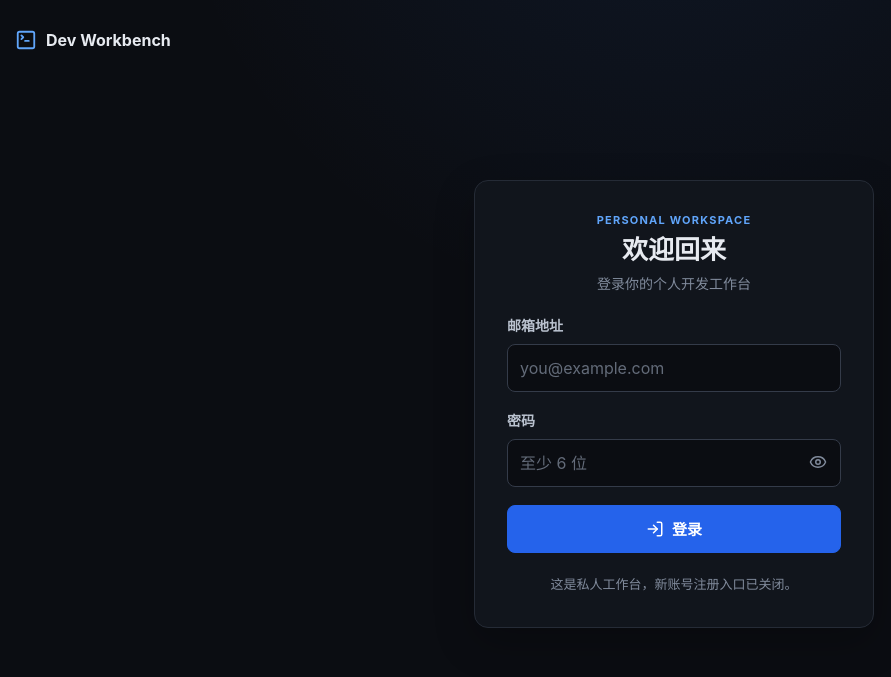
Test case: Auth page › shows a safe localized error without exposing the backend message
In the field labelled "邮箱地址": (674, 368) [507,344,841,392], type "owner@example.com"
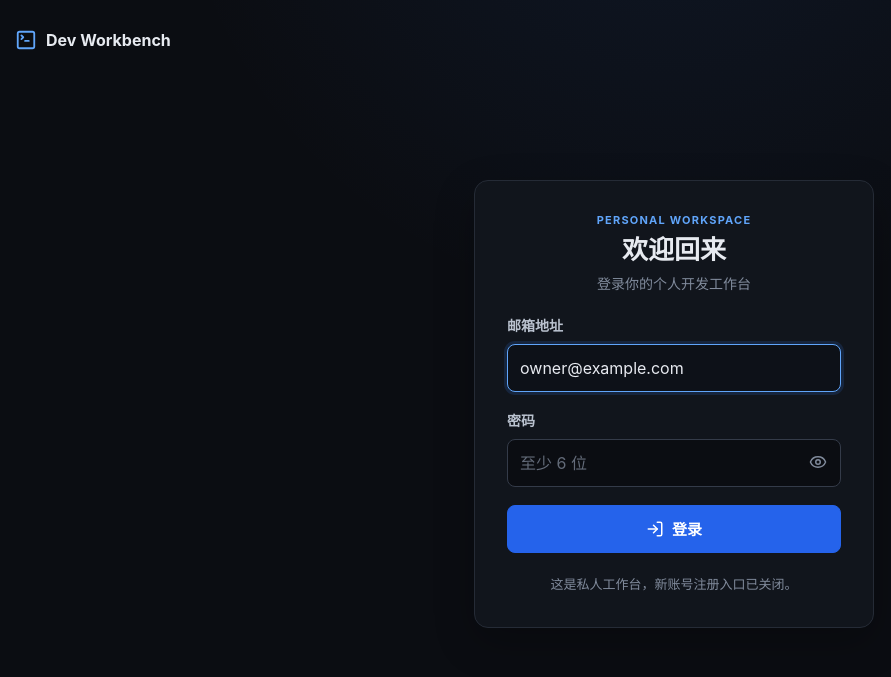
In the password field labelled "密码": (674, 463) [507,439,841,487], type "wrong-password"
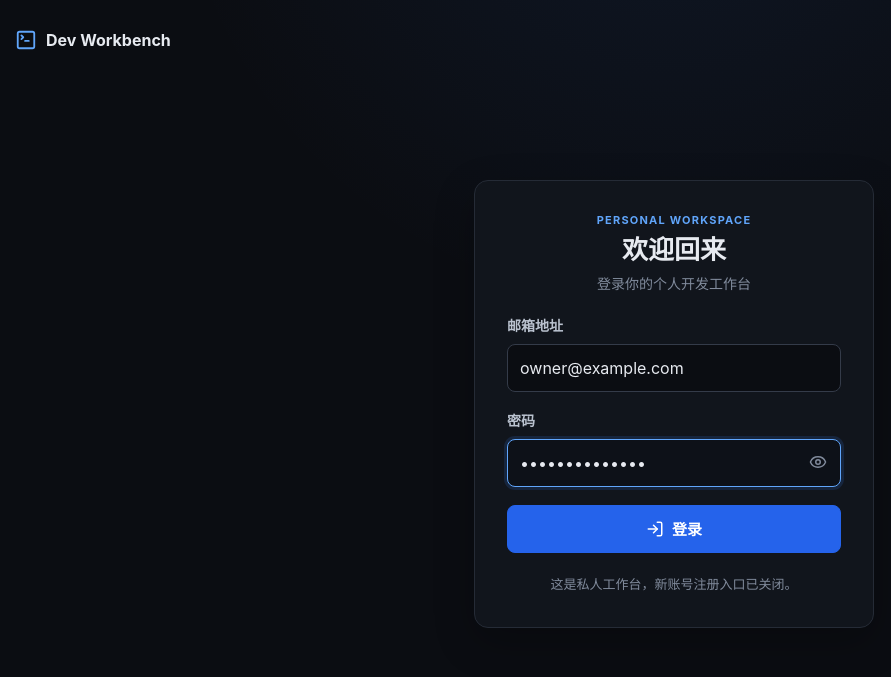
Click the button "登录": (674, 529) [507,505,841,553]
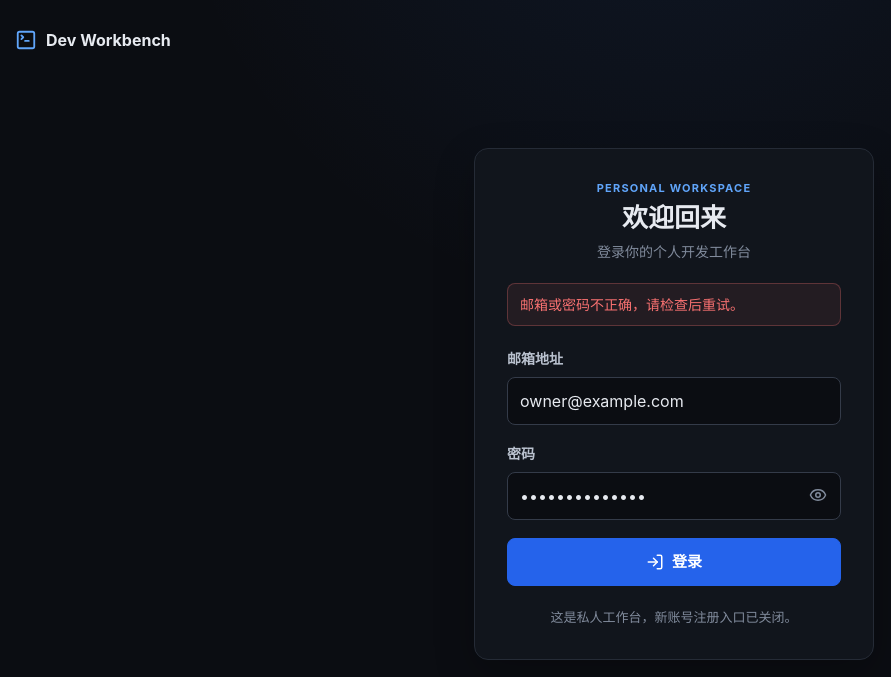
expect the message does not show "internal trace 42": met, box [507,283,841,326]
expect the message shows "邮箱或密码不正确": met, box [520,296,744,313]
